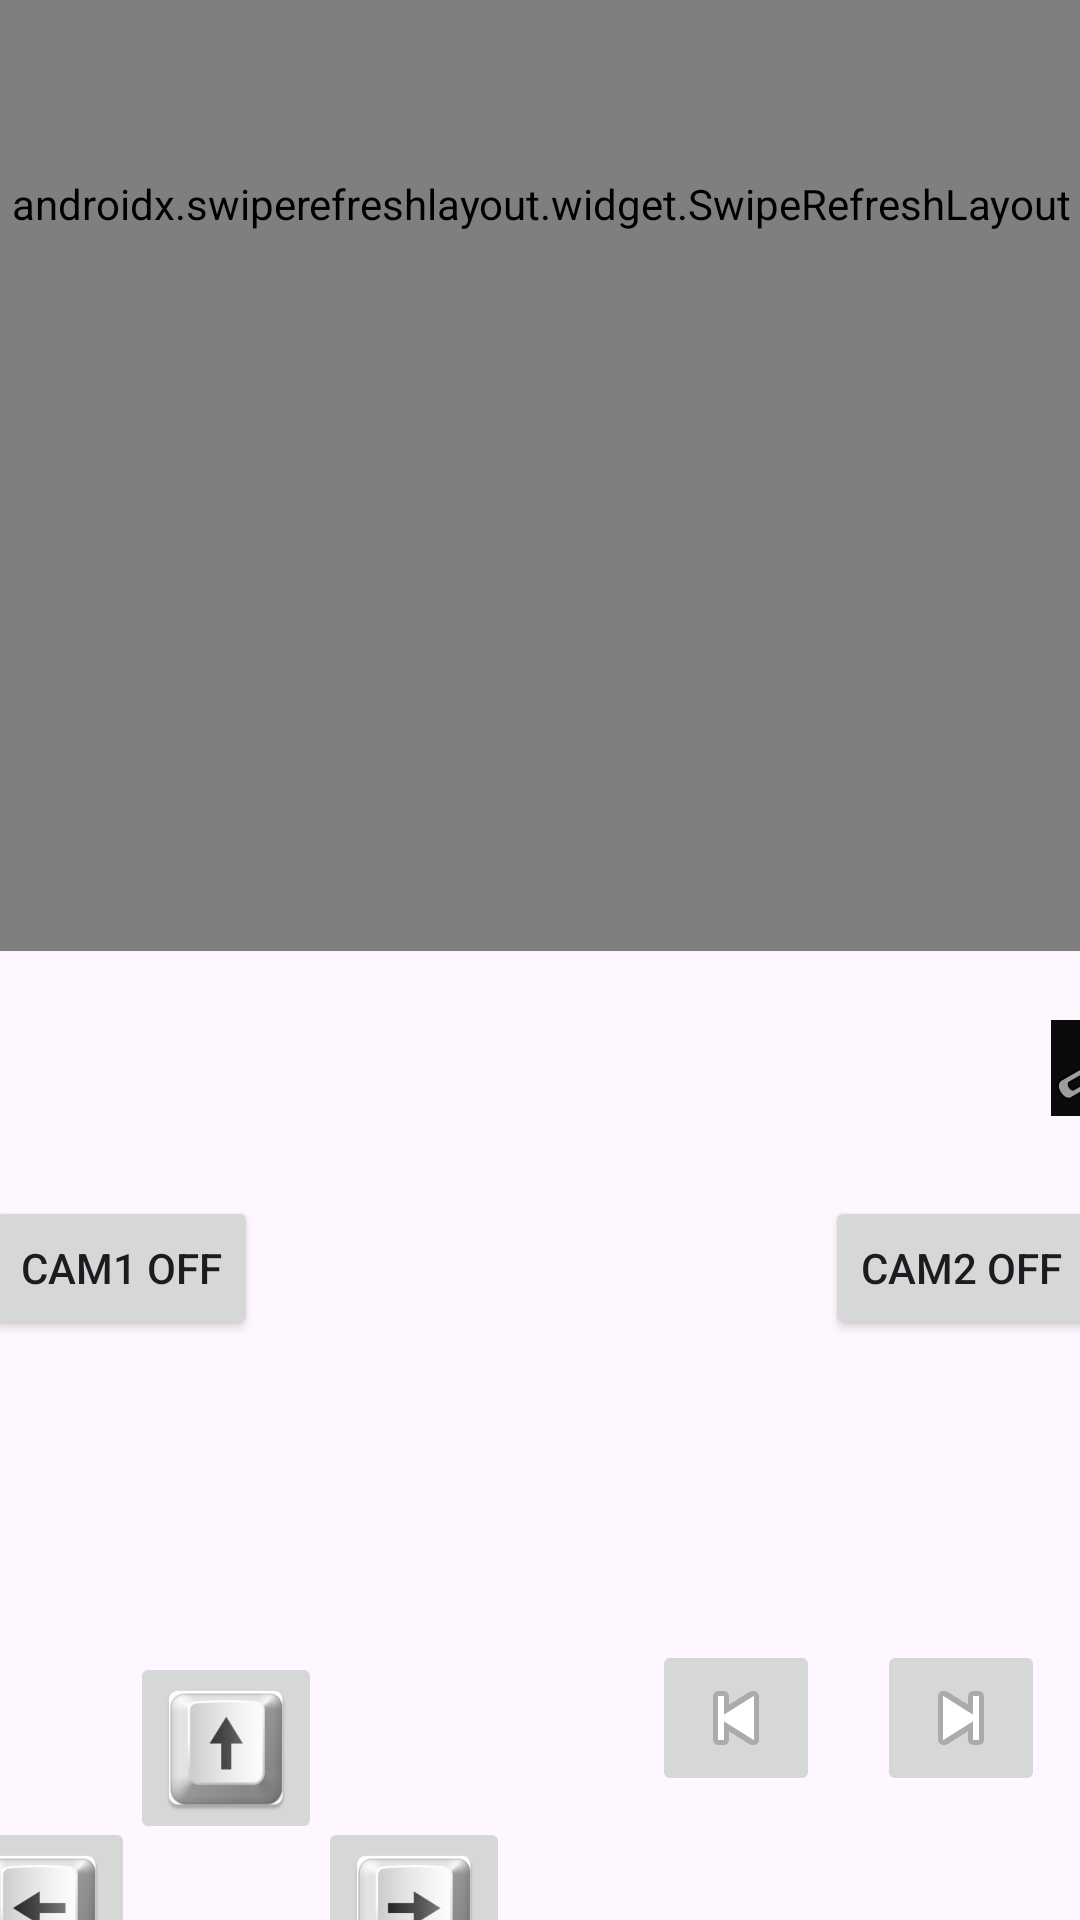

Icons on this 1080x1920 Android screen, each with the point to tap as point (x, y):
next: point (961, 1718)
previous: point (736, 1718)
